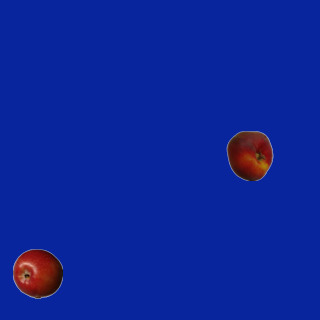Apple Braeburn: (12, 248, 62, 298)
Nectarine Flat: (224, 130, 274, 180)
